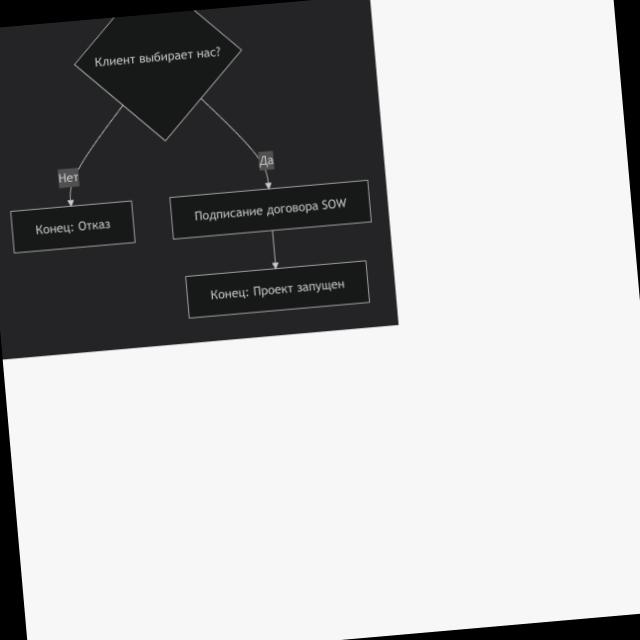arrow: (200, 91, 272, 194), (59, 104, 130, 206), (266, 230, 282, 268)
rectangle: (169, 180, 371, 239), (186, 261, 370, 318), (11, 202, 135, 253)
text_region: (252, 150, 282, 168), (56, 168, 82, 183)
